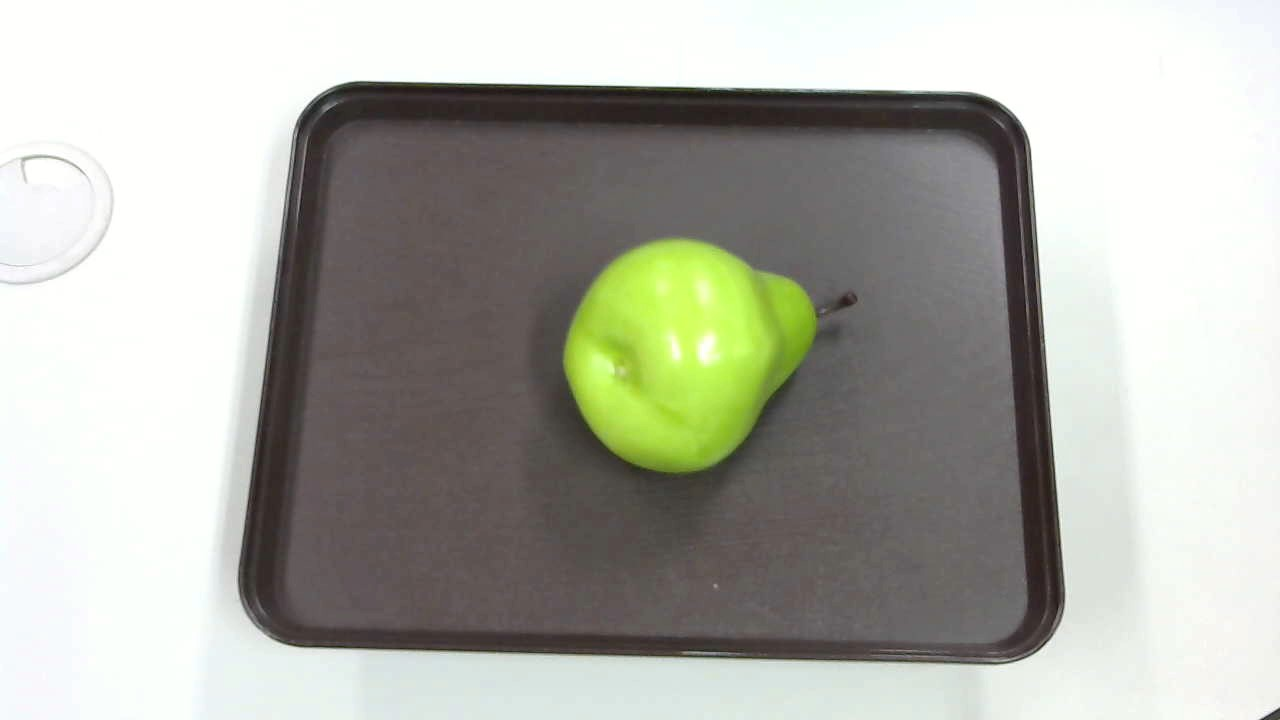green pear: (549, 235, 881, 480)
